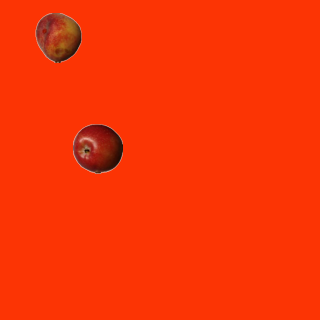Apple Braeburn: (72, 123, 122, 173)
Peach: (33, 12, 83, 62)
